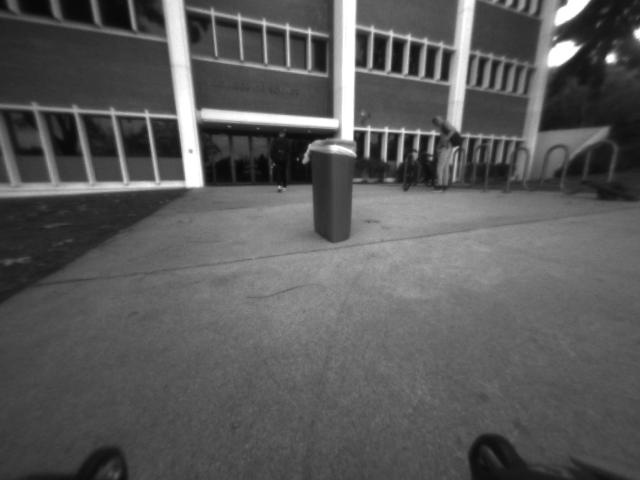trashcan_open: (303, 135, 364, 246)
